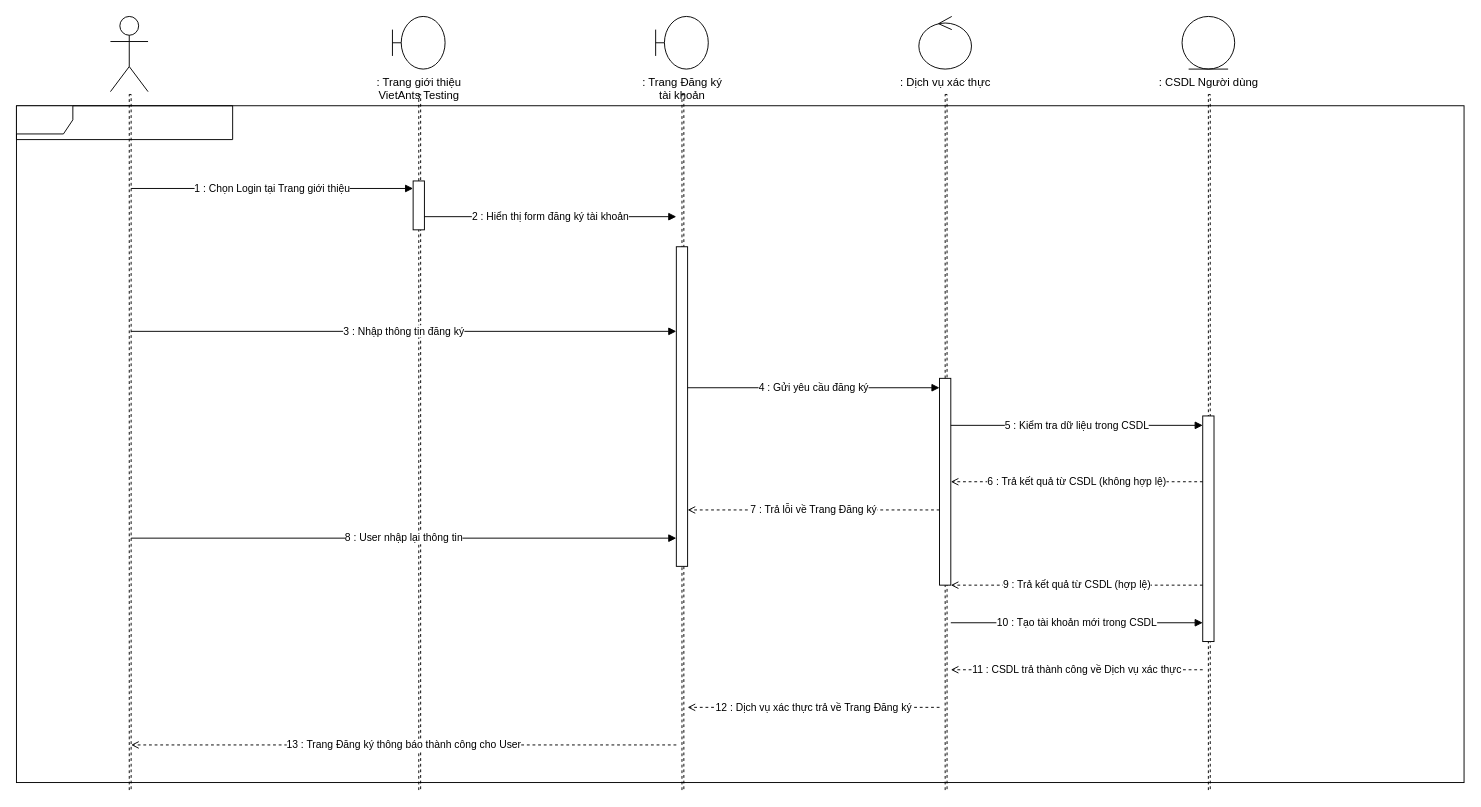
This 1481x807 diagram has some shape labels left out. The shapes that lost their labels are listed below. From the top down, each one's centre as x and y in pixels, then its label:
the point at 129,54: : User
the point at 124,122: sd Đăng ký tài khoản (ĐC-03)
